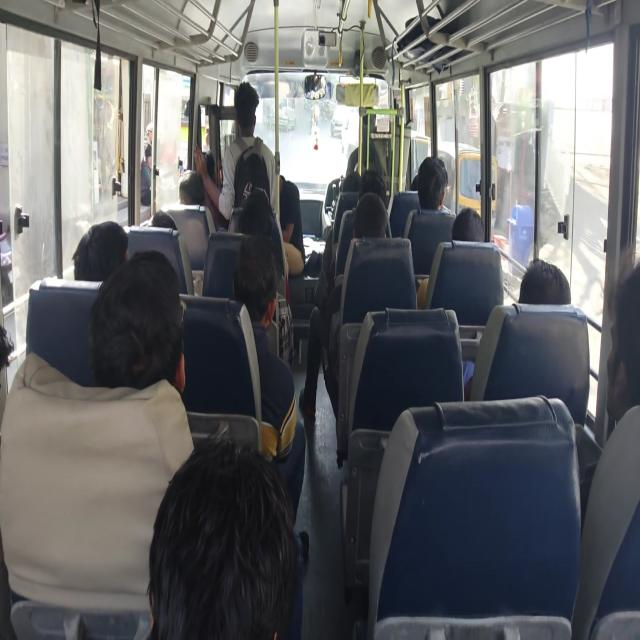person: (159, 449, 282, 640), (104, 253, 185, 399), (587, 243, 640, 450), (511, 255, 607, 342), (218, 247, 283, 341), (260, 163, 306, 279), (64, 210, 118, 279), (418, 155, 461, 230), (225, 79, 269, 138), (222, 195, 272, 241), (139, 198, 183, 245), (361, 192, 398, 247), (405, 156, 435, 222), (448, 208, 489, 252), (182, 140, 216, 183), (180, 158, 207, 211), (354, 174, 388, 208), (241, 173, 264, 209)
